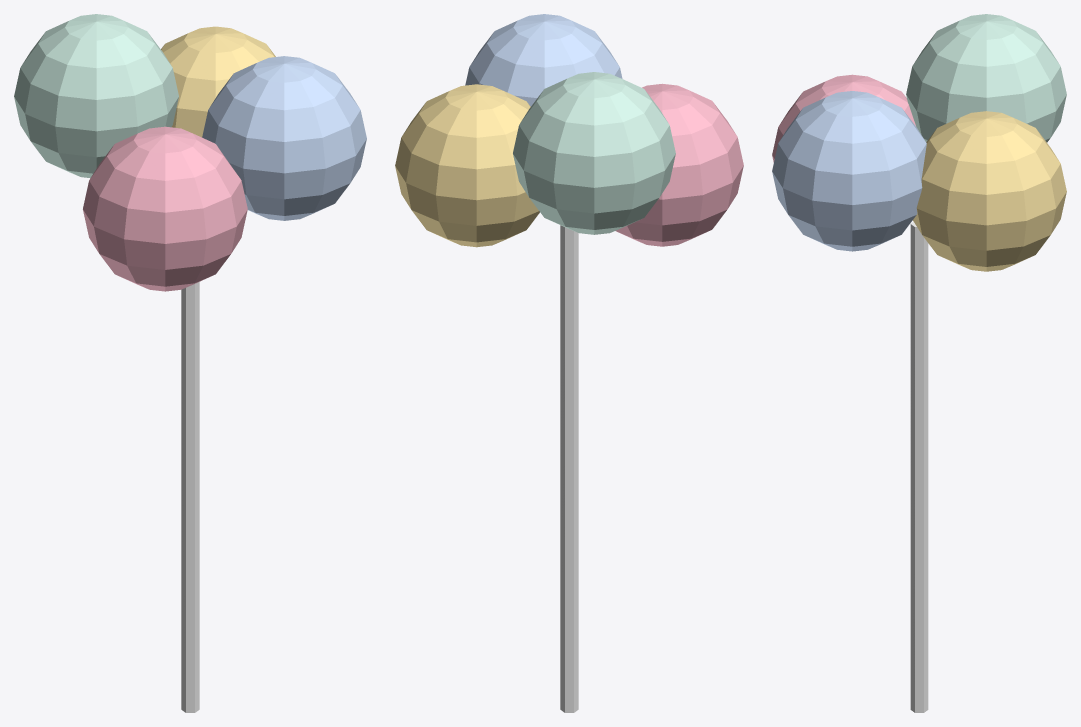
File: prop_balloon_bundle.glb
The picture shows the model from 3 angles, left to right: view 1: azimuth 30°, elevation 25°; view 2: azimuth 150°, elevation 25°; view 3: azimuth 270°, elevation 25°; orthographic projection. The views are drawn at different scales.
Visible parts, largest first — view 1: prop_balloon_bundle; view 2: prop_balloon_bundle; view 3: prop_balloon_bundle.
Boxes of the visible parts, x1,y1,x2,y2 form: prop_balloon_bundle: (14, 14, 366, 712); prop_balloon_bundle: (395, 14, 743, 712); prop_balloon_bundle: (772, 14, 1066, 712).
Size of the model in its own units: 0.66 by 1.63 by 0.66.
